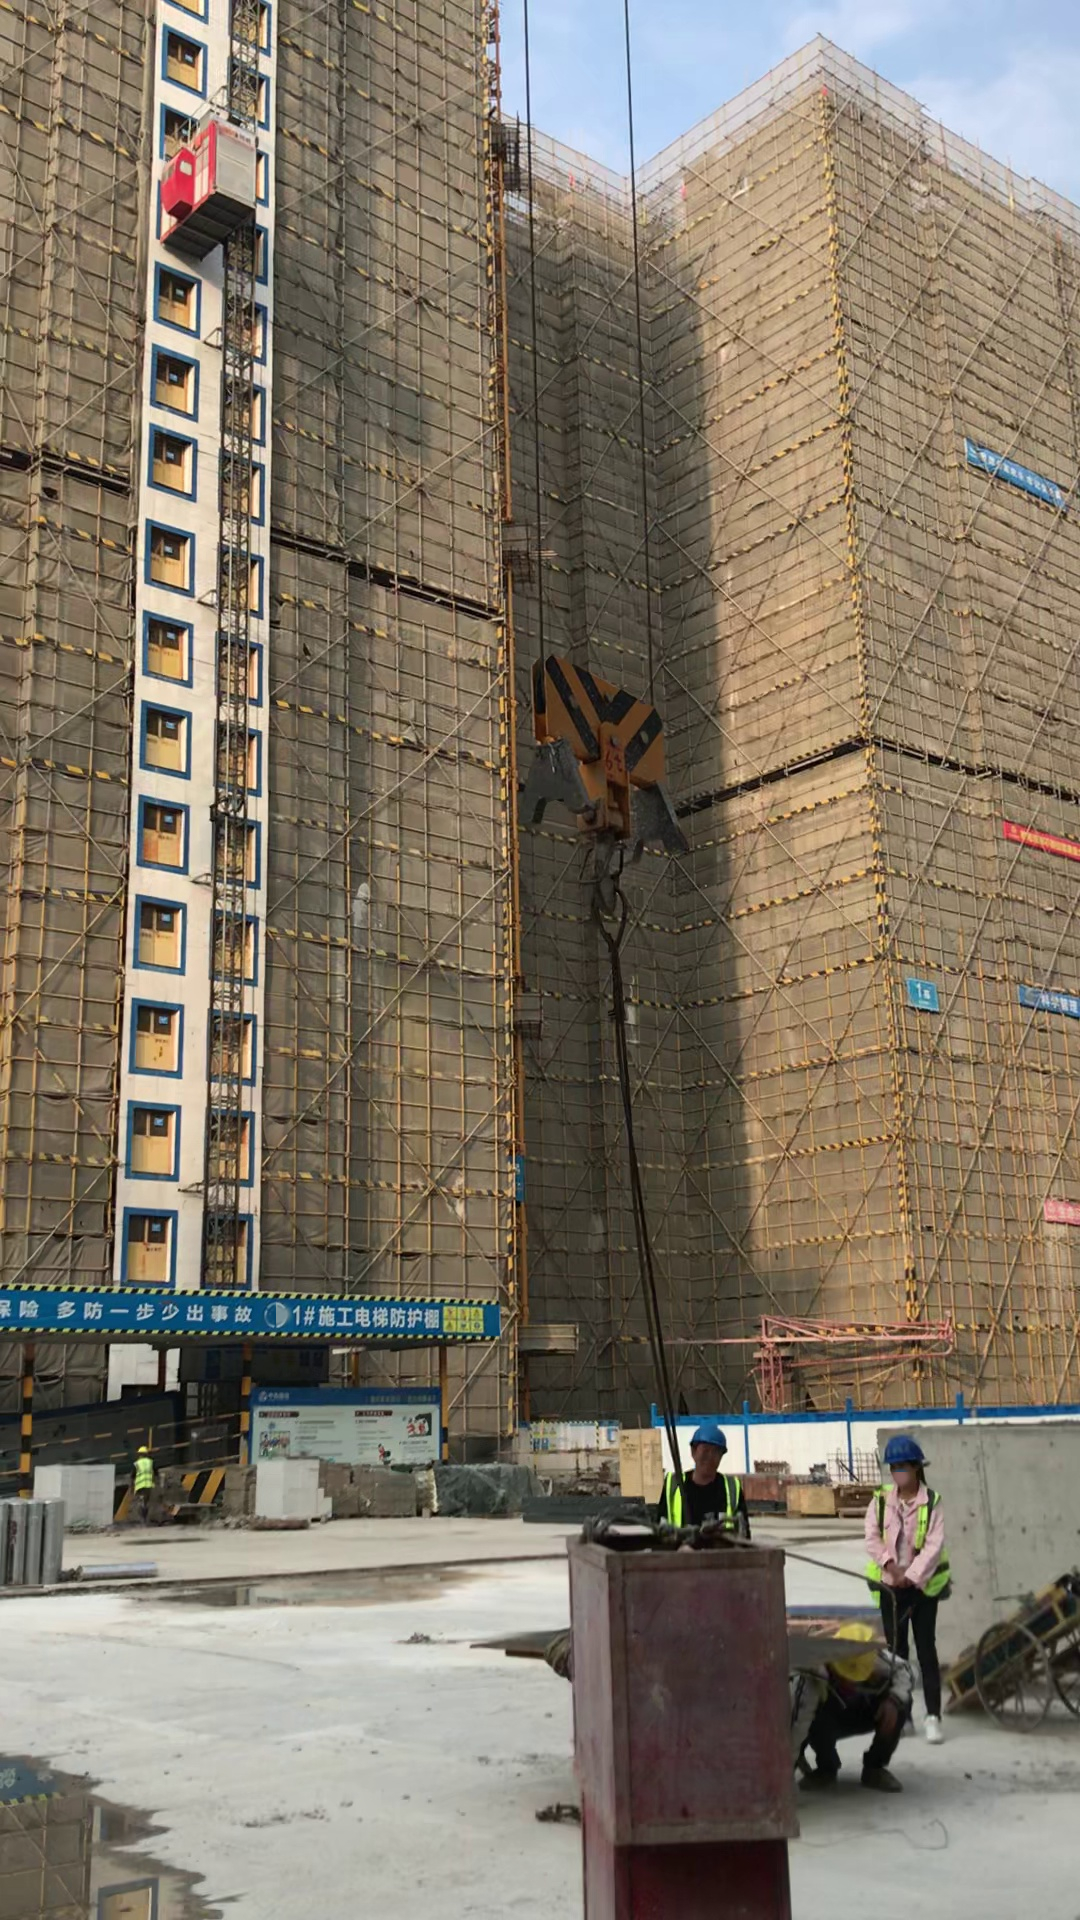brick: (31, 1463, 115, 1532), (253, 1455, 334, 1525)
handcart: (943, 1576, 1080, 1732)
helmet: (837, 1626, 879, 1683), (882, 1439, 926, 1465), (689, 1425, 728, 1449), (137, 1446, 148, 1453)
hook: (518, 647, 693, 859)
person: (865, 1436, 959, 1745), (801, 1633, 916, 1793), (660, 1425, 753, 1536), (132, 1448, 155, 1532)
slogan: (3, 1287, 259, 1331), (964, 435, 1068, 509), (1000, 814, 1080, 862), (1013, 980, 1080, 1017), (432, 1301, 490, 1340), (1040, 1197, 1080, 1222)
vest: (869, 1484, 950, 1601), (665, 1471, 740, 1531), (136, 1458, 153, 1492)
